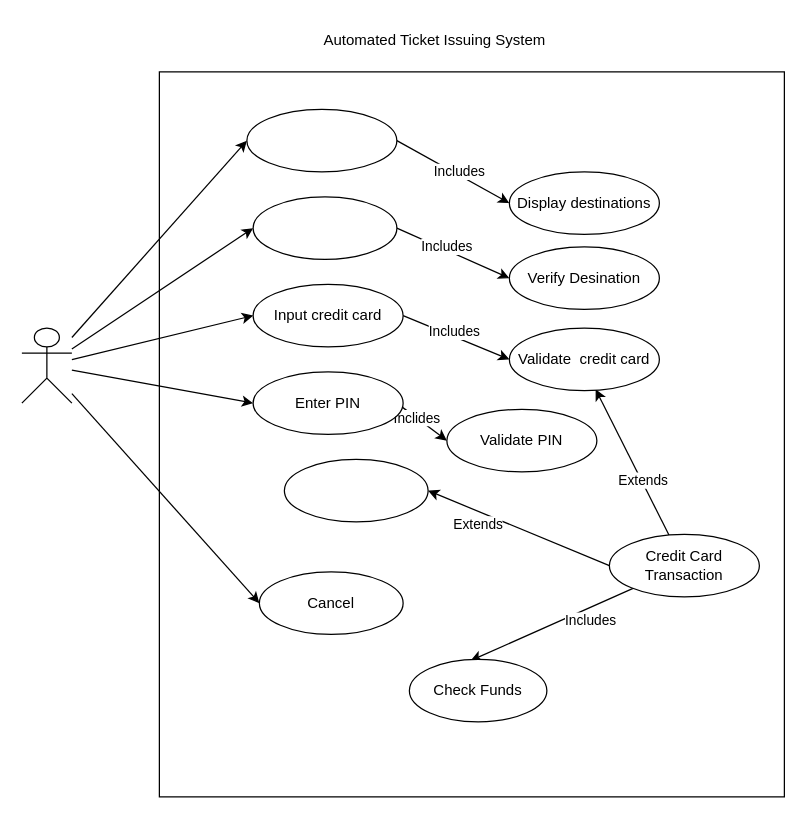
Some shapes in this 806 by 819 pixel diagram are drawn without their labels. The centre of each missing label's shape, as x and y in pixels:
"Issue ticket" belongs at point (355, 490).
"Press Start" belongs at point (321, 140).
"Select Destination" belongs at point (324, 227).
"User" belongs at point (46, 365).
